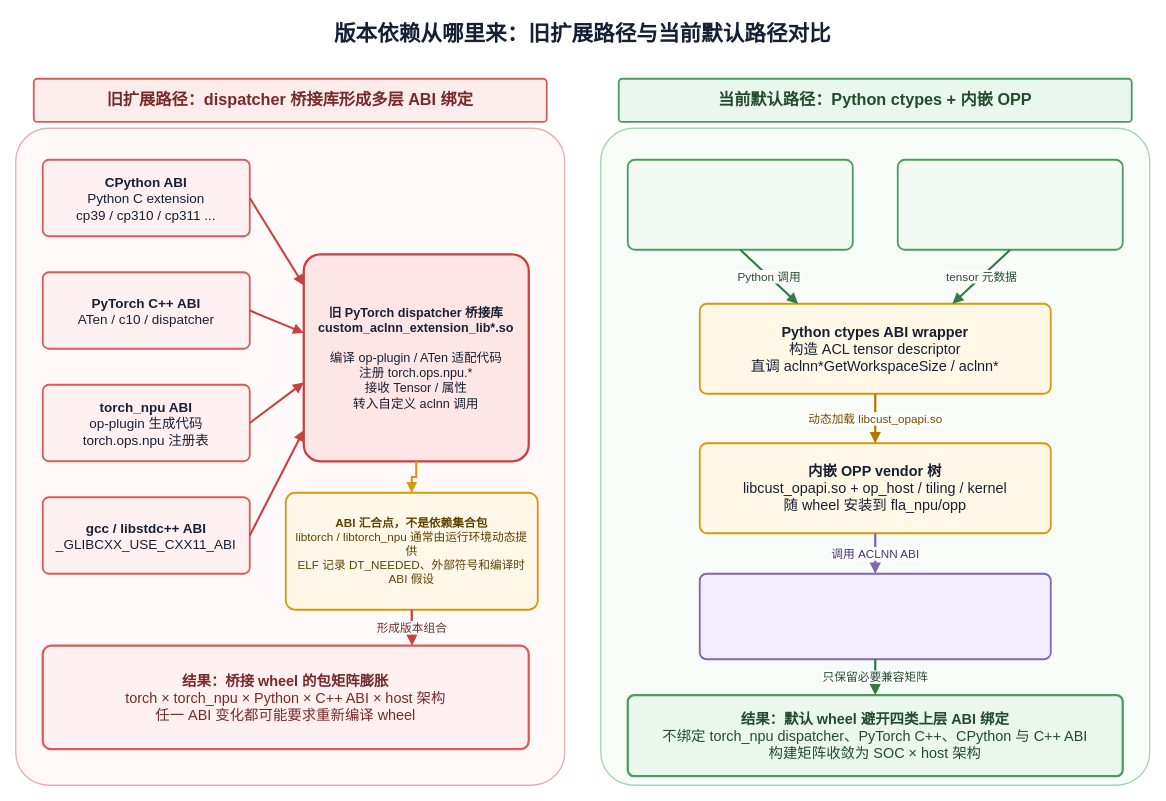
The diagram is 1166 pixels wide and 801 high, and some of its shapes have lost their labels. The shapes that lost their labels are listed below. From the top down, each one's box as (x1, y1, x2, y2) in pixels, then its label:
(626, 158, 853, 250): 纯 Python 包 py3-none-any wheel 无 CPython 扩展 ABI
(896, 158, 1123, 250): torch Python tensor API data_ptr / shape / stride / dtype current NPU stream
(698, 572, 1051, 660): 保留的真实运行依赖 CANN / ACL runtime ABI SOC 与 host 架构的二进制兼容性
